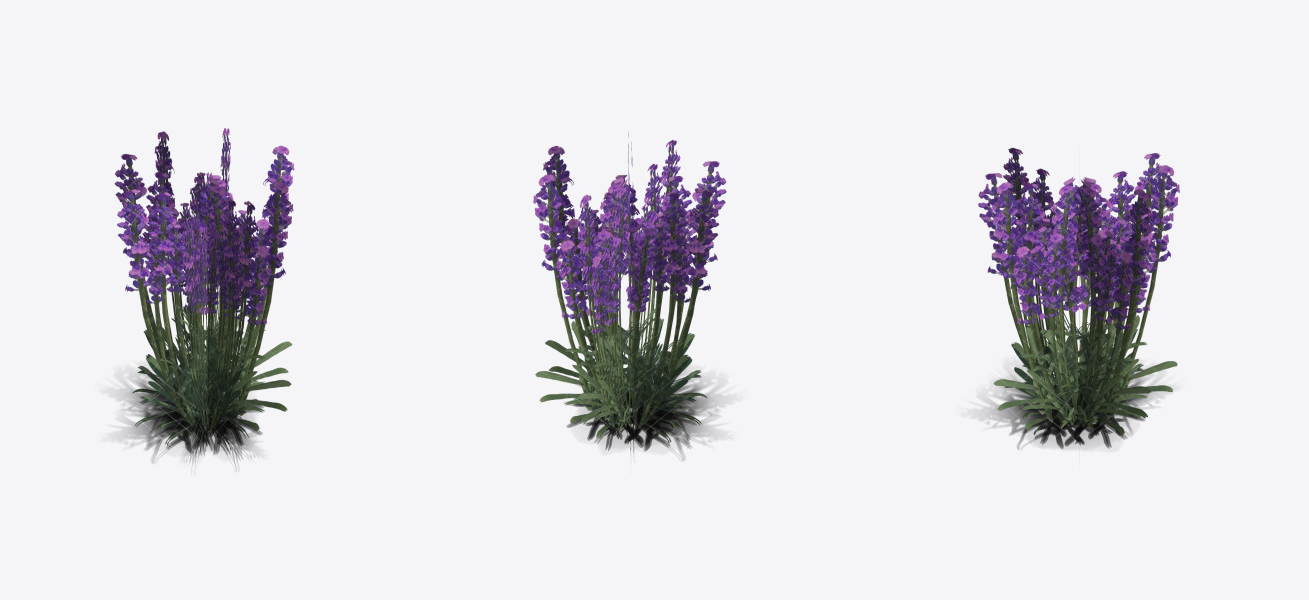
File: lavender.glb
3 renders of one model, left to right at view 1: azimuth 30°, elevation 25°; view 2: azimuth 150°, elevation 25°; view 3: azimuth 270°, elevation 25°, orthographic.
Parts seen in each view (by area): view 1: Plane.003_Material_0; view 2: Plane.003_Material_0; view 3: Plane.003_Material_0.
Boxes of the visible parts, x1,y1,x2,y2 form: Plane.003_Material_0: (114,128,294,465); Plane.003_Material_0: (533,132,726,460); Plane.003_Material_0: (978,148,1179,449).
Size of the model in its own units: 2 by 2 by 2.
1 material, 1 textured.
